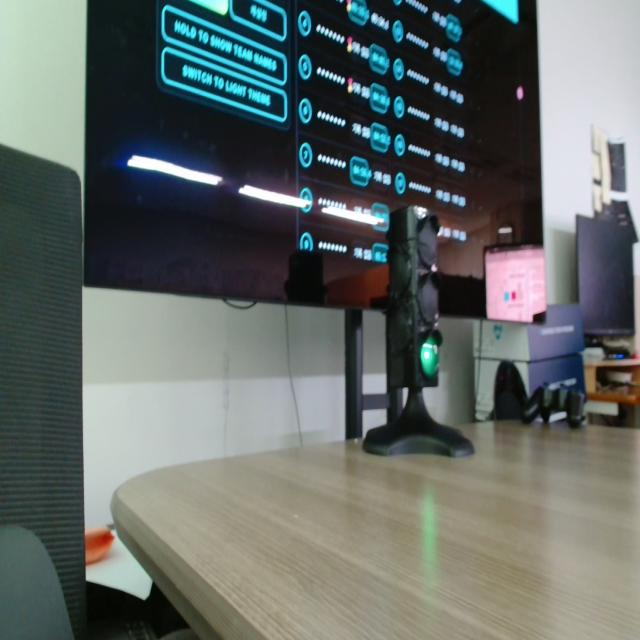green_light: (421, 335, 441, 379)
